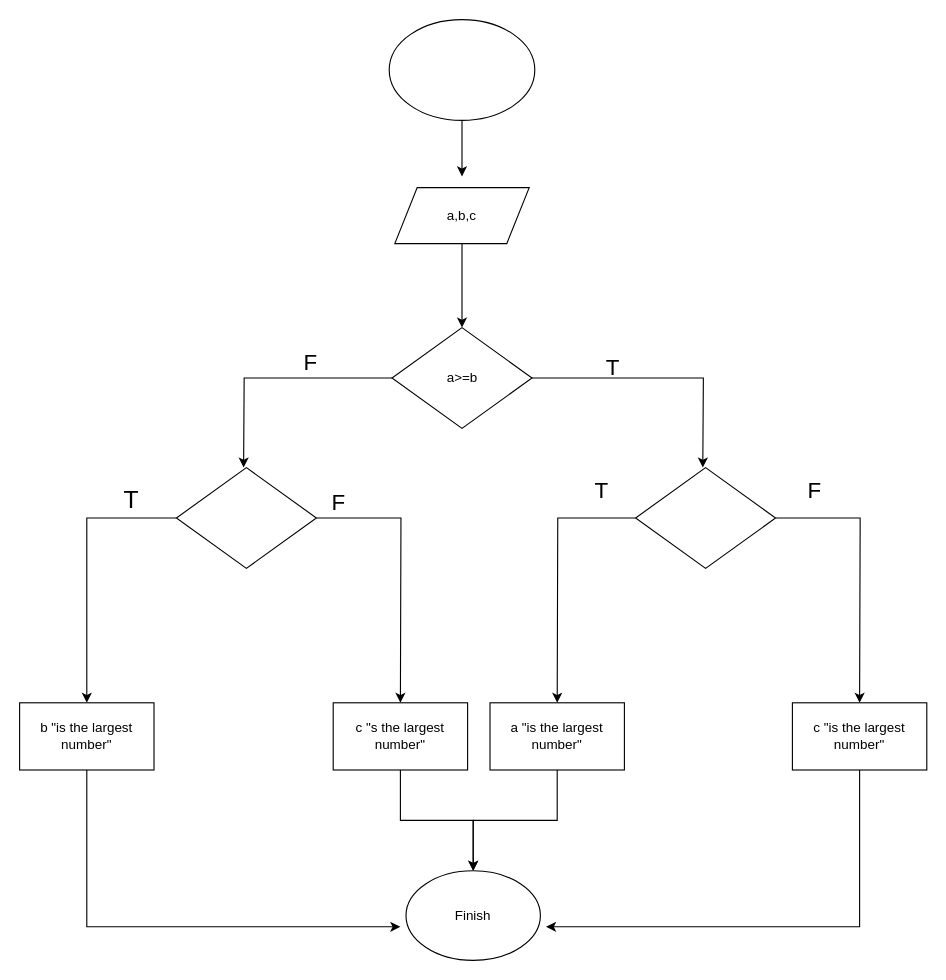
This 946x980 diagram has some shape labels left out. Each missing label, with the centre of its shape:
"a>=c" belongs at (705,517).
"b>=c" belongs at (245,517).
"Start" belongs at (461,69).
